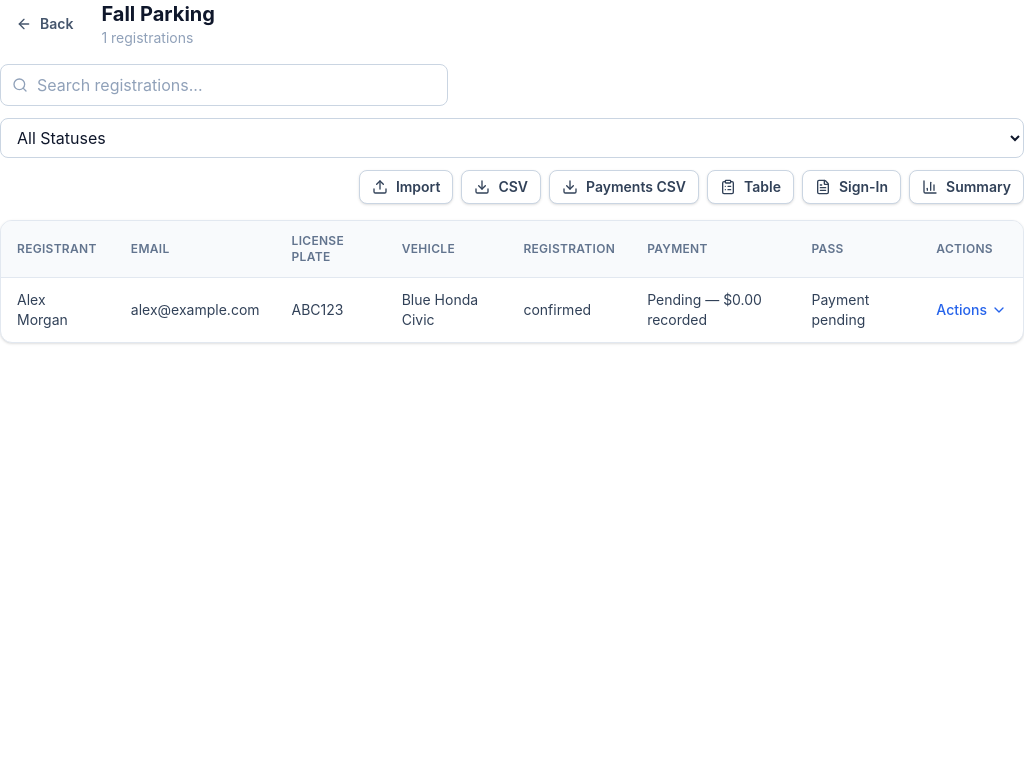
Test: RegistrationViewer › opens payment entry for an eligible parking registration
This screenshot has width=1024, height=768.
Click the button "Actions" at (972, 310), box [936, 300, 1007, 320]
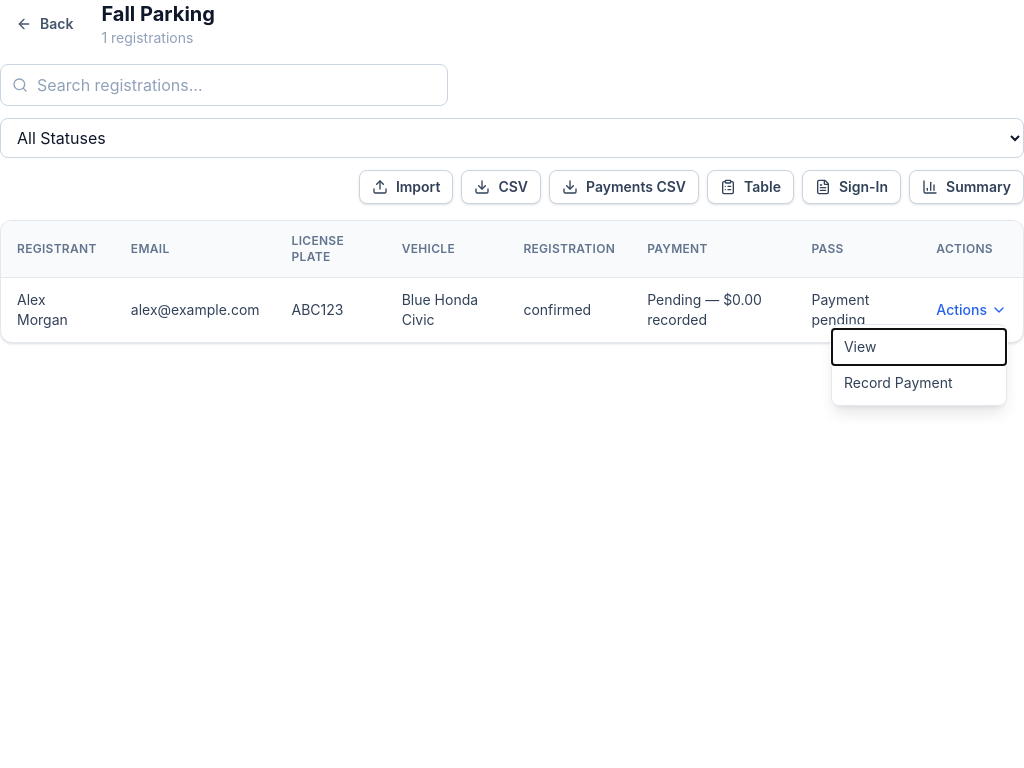
Click the menu item "Record Payment" at (919, 383), box [832, 365, 1006, 401]
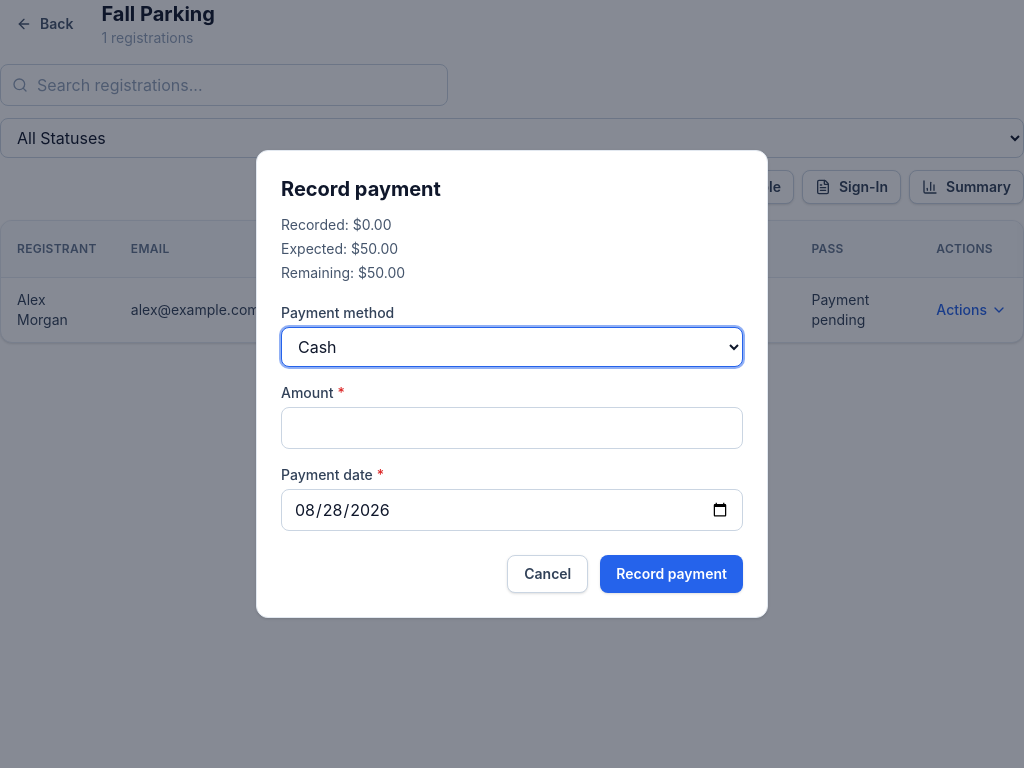
Now the dialog "Record payment" is shown, box [256, 150, 768, 618]
